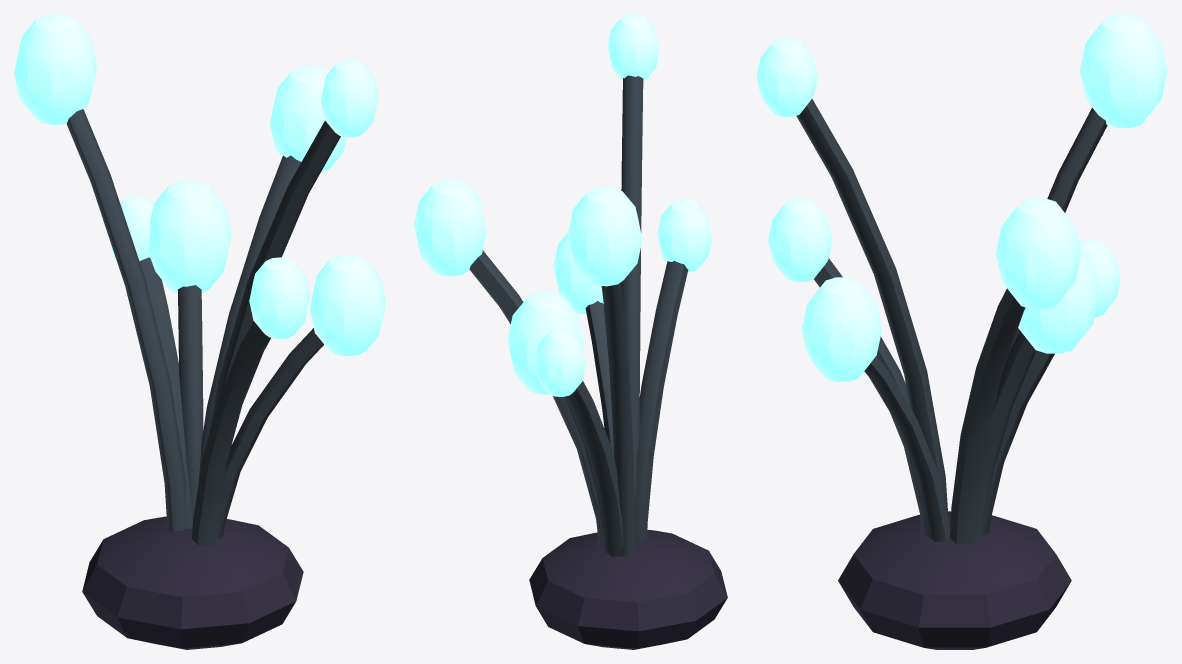
File: alien_plant_a.glb
The picture shows the model from 3 angles, left to right: view 1: azimuth 30°, elevation 25°; view 2: azimuth 150°, elevation 25°; view 3: azimuth 270°, elevation 25°; orthographic projection. The views are drawn at different scales.
Visible parts, largest first — view 1: alien_plant_a; view 2: alien_plant_a; view 3: alien_plant_a.
Boxes of the visible parts, x1,y1,x2,y2 form: alien_plant_a: (14, 14, 385, 649); alien_plant_a: (414, 14, 727, 649); alien_plant_a: (756, 14, 1167, 649).
Bounding box in the file's own units: 1.02 × 2.09 × 1.23.
